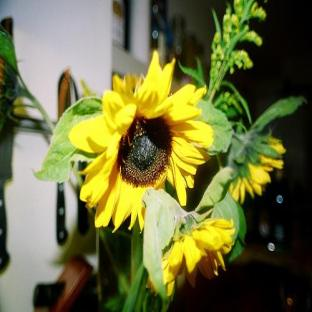sunflower: (69, 52, 214, 233)
